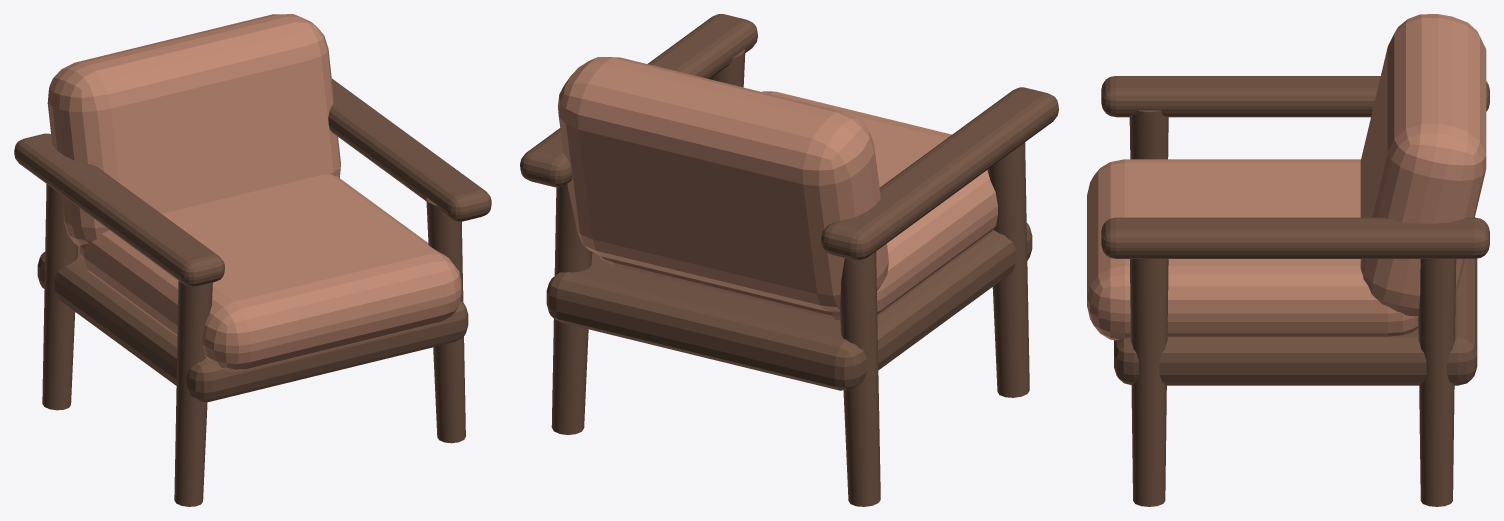
The model's file is sofa-reading.glb.
3 renders of one model, left to right at view 1: azimuth 30°, elevation 25°; view 2: azimuth 150°, elevation 25°; view 3: azimuth 270°, elevation 25°, orthographic. The views are drawn at different scales.
Parts seen in each view (by area): view 1: sofa-reading; view 2: sofa-reading; view 3: sofa-reading.
Part boxes in pixels (left/top/right/bottom): sofa-reading: left=14, top=14, right=491, bottom=506; sofa-reading: left=520, top=14, right=1058, bottom=506; sofa-reading: left=1087, top=14, right=1489, bottom=506.
Bounding box in the file's own units: 0.83 × 0.85 × 0.86.
